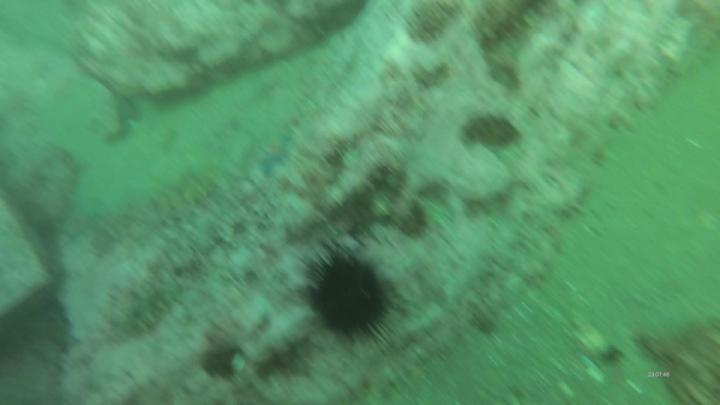echinus: (309, 249, 390, 342)
holothurian: (113, 285, 177, 339), (157, 160, 222, 205)
starfish: (252, 135, 294, 182)
